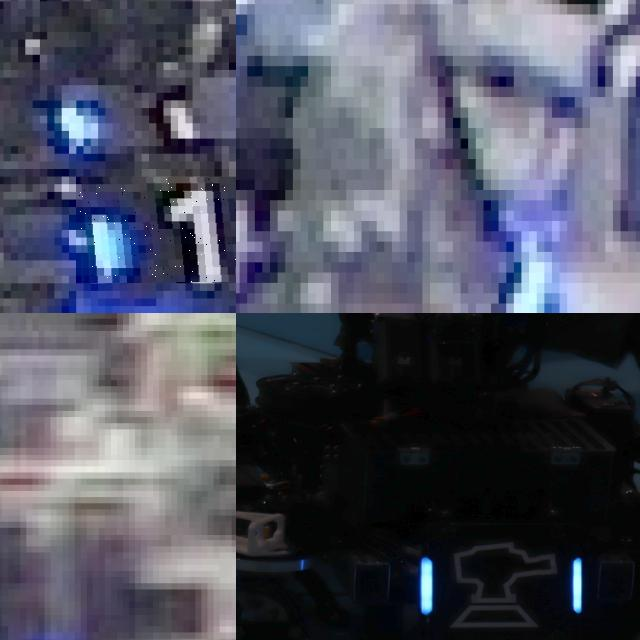B1: (76, 176, 236, 283)
Bs: (417, 541, 590, 633)
